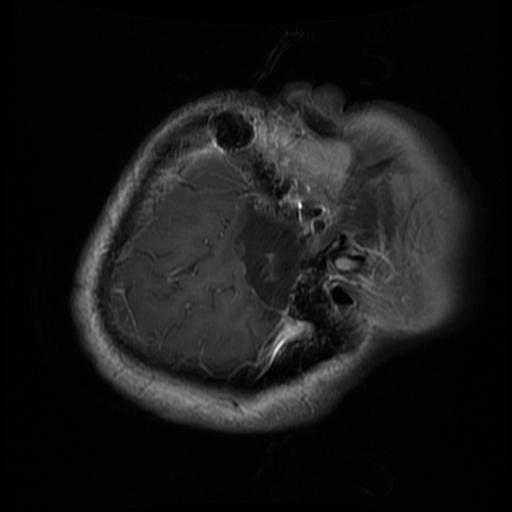glioma: (238, 199, 300, 322)
